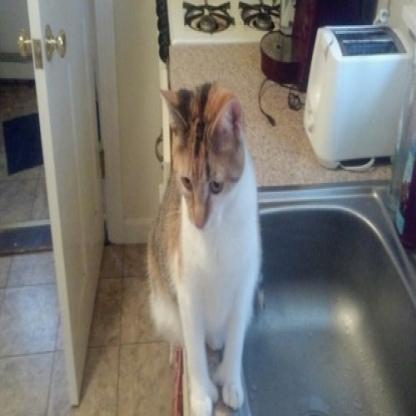Target: (144, 80, 266, 413)
